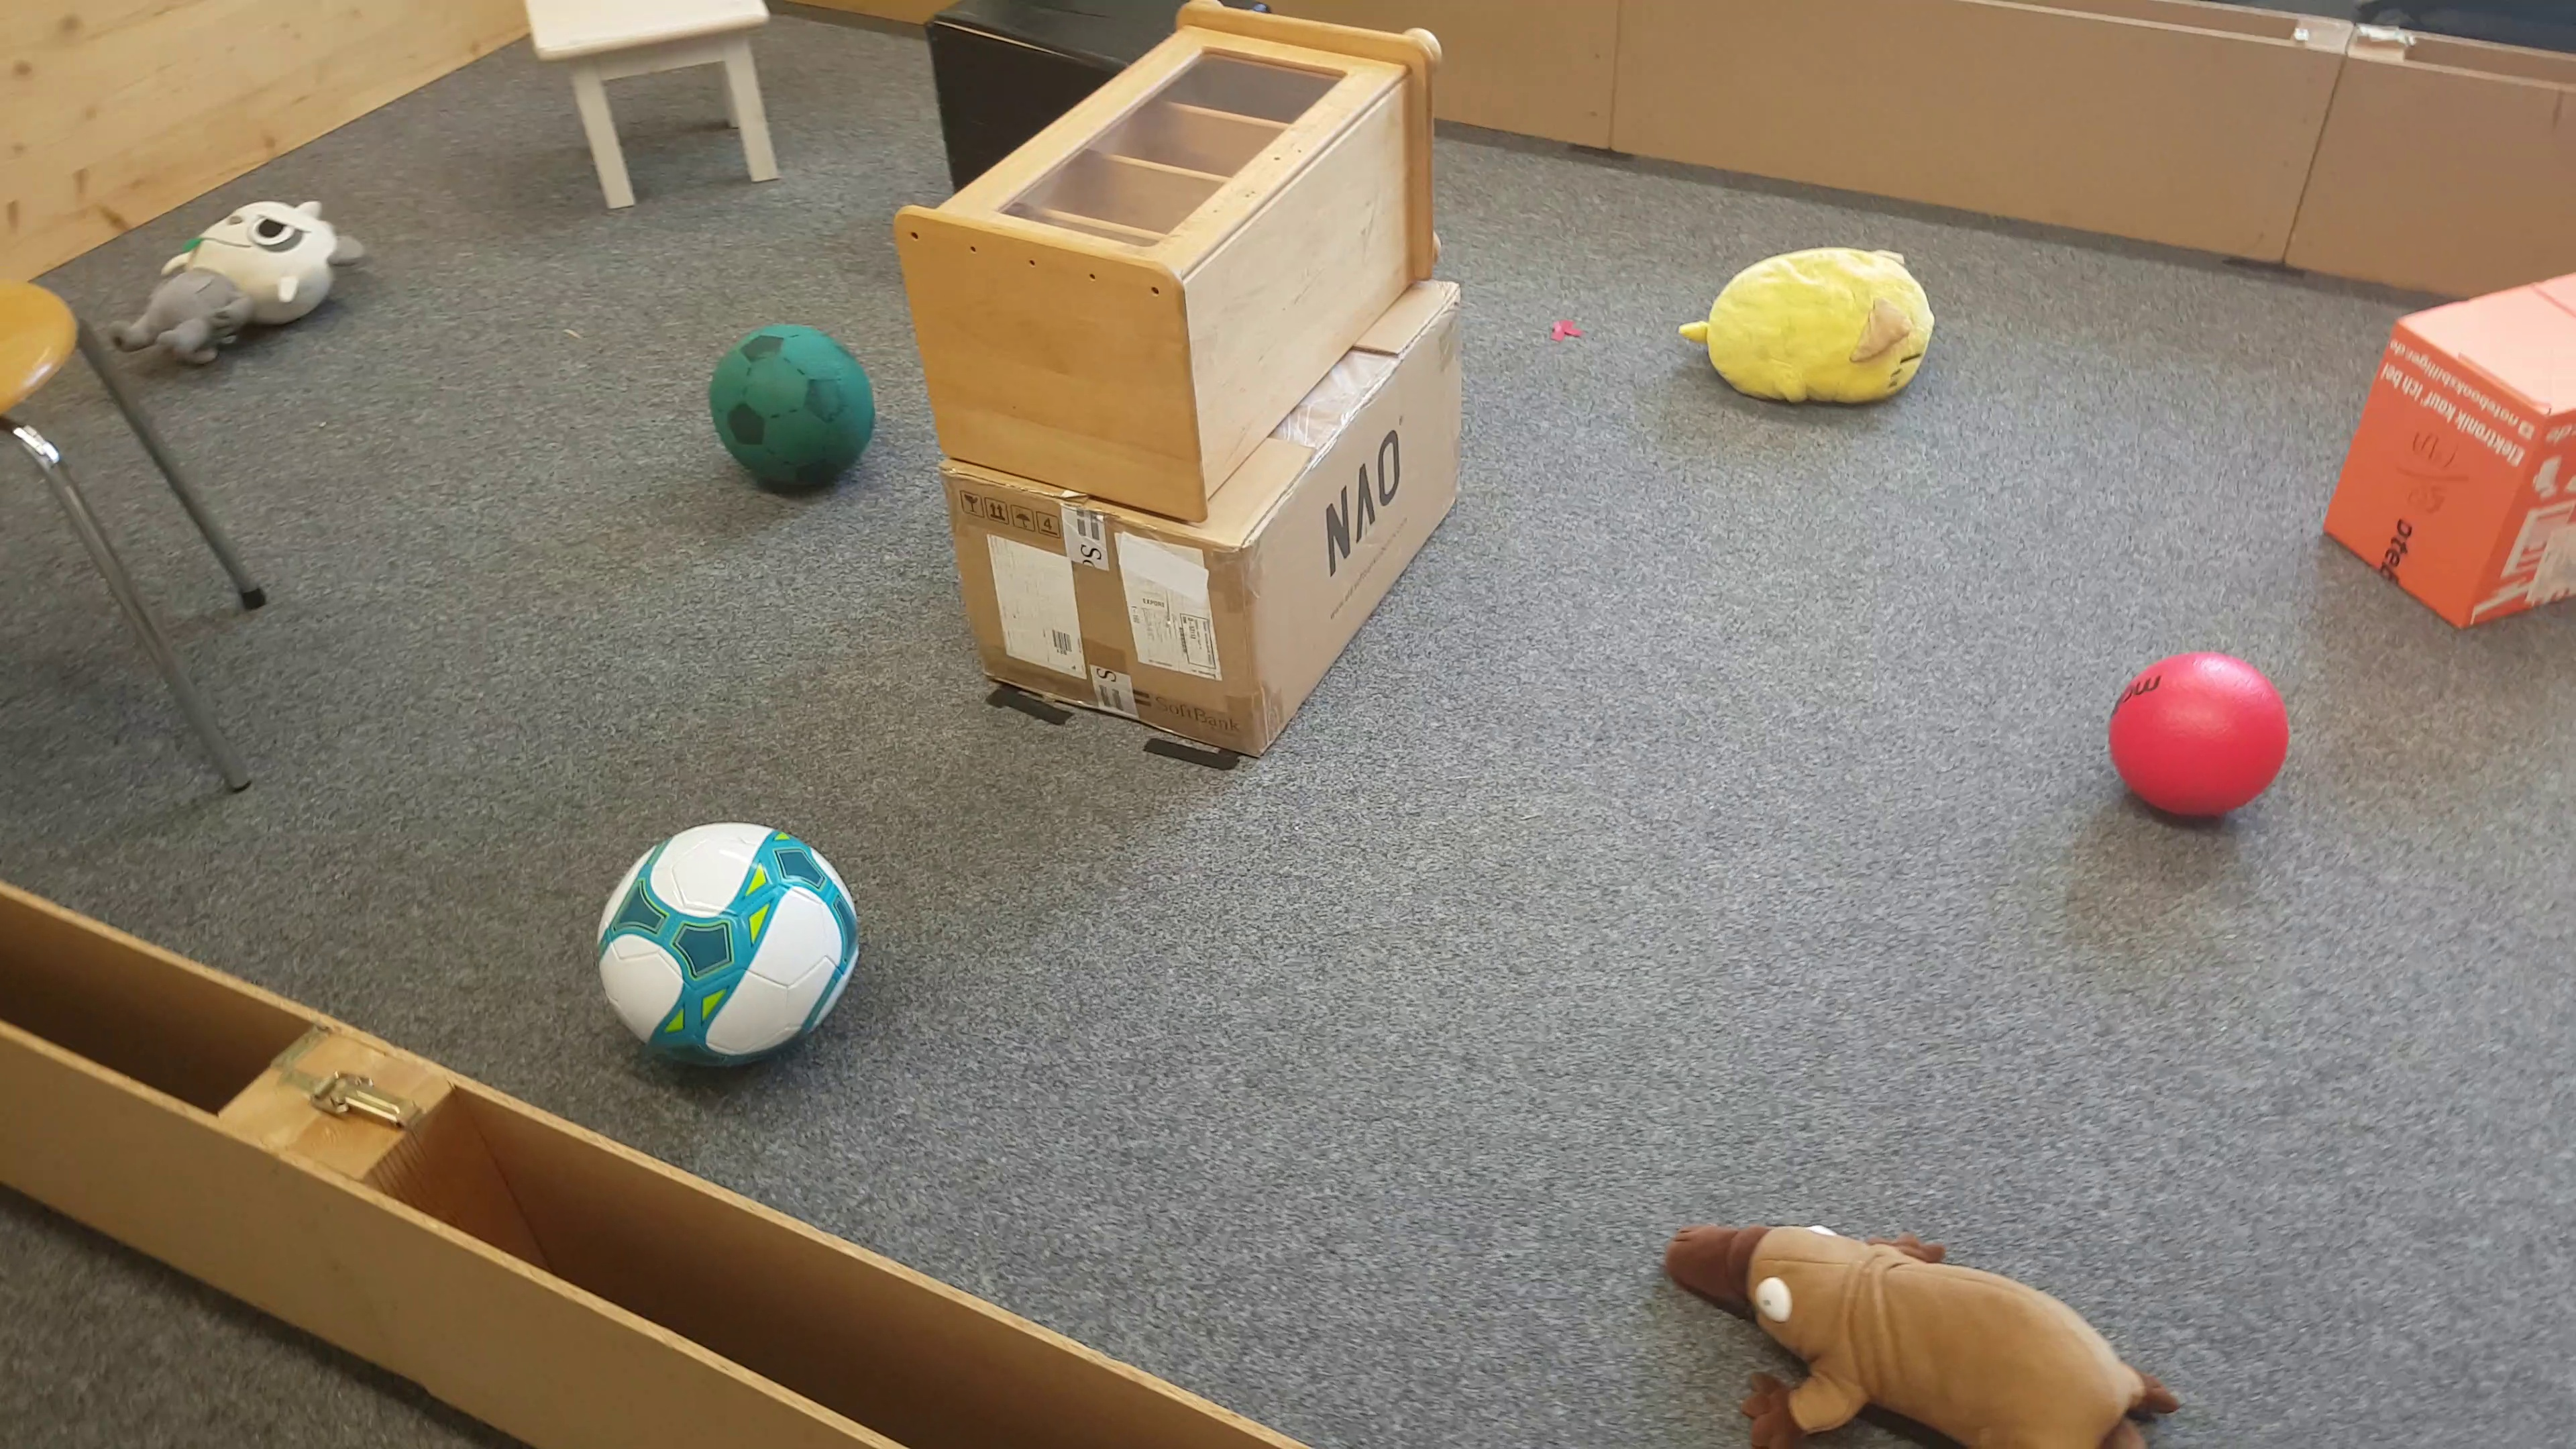grasp: (1665, 1219, 2174, 1449), (110, 191, 363, 386), (1681, 242, 1937, 407)
kick: (593, 821, 862, 1069), (2111, 651, 2286, 819), (711, 324, 876, 502)
push: (2325, 269, 2576, 635), (927, 2, 1123, 67)
